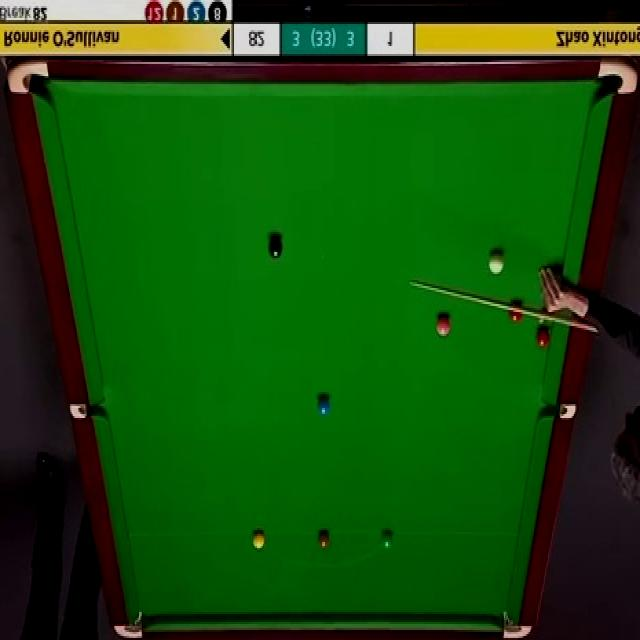pocket: (6, 55, 49, 97), (594, 58, 637, 97), (501, 608, 530, 640), (113, 612, 143, 640), (67, 406, 105, 420), (540, 405, 574, 420)
